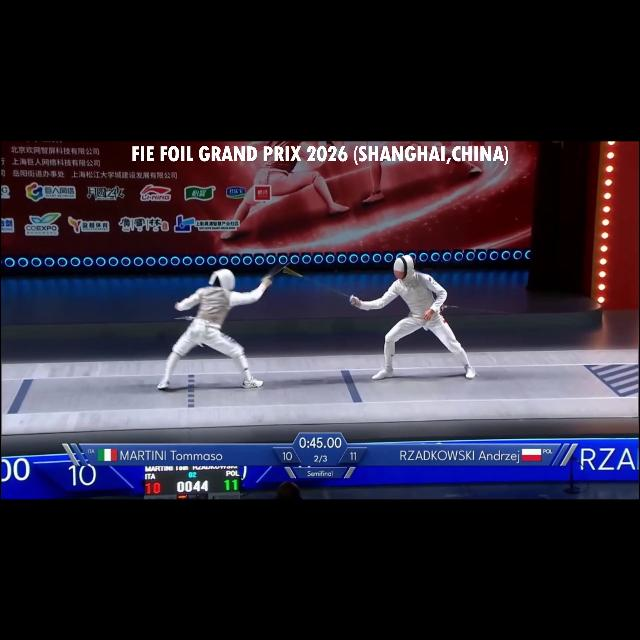blade: (281, 262, 361, 304), (260, 258, 296, 284)
